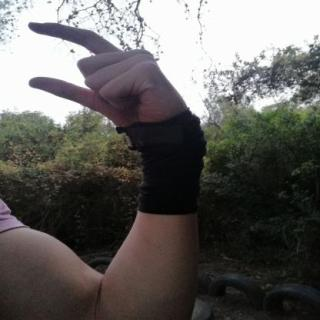DELL: (11, 14, 204, 140)
